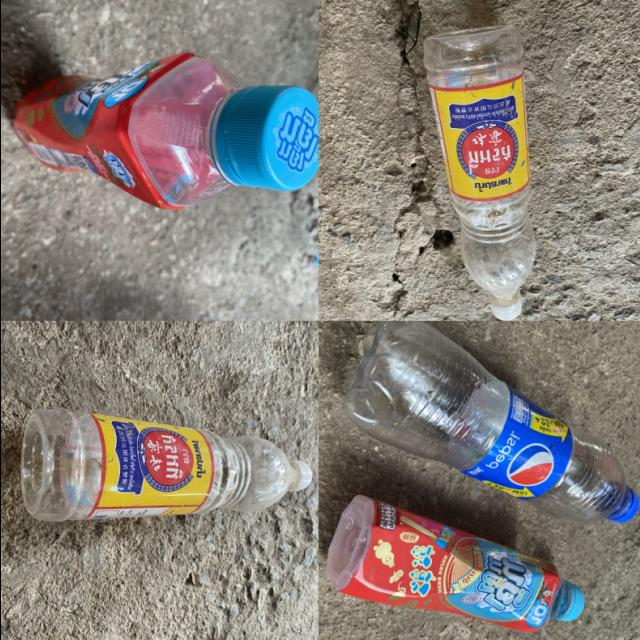plastik: (342, 322, 638, 523), (13, 52, 318, 209), (326, 495, 583, 632), (423, 26, 535, 321), (21, 409, 311, 521)
